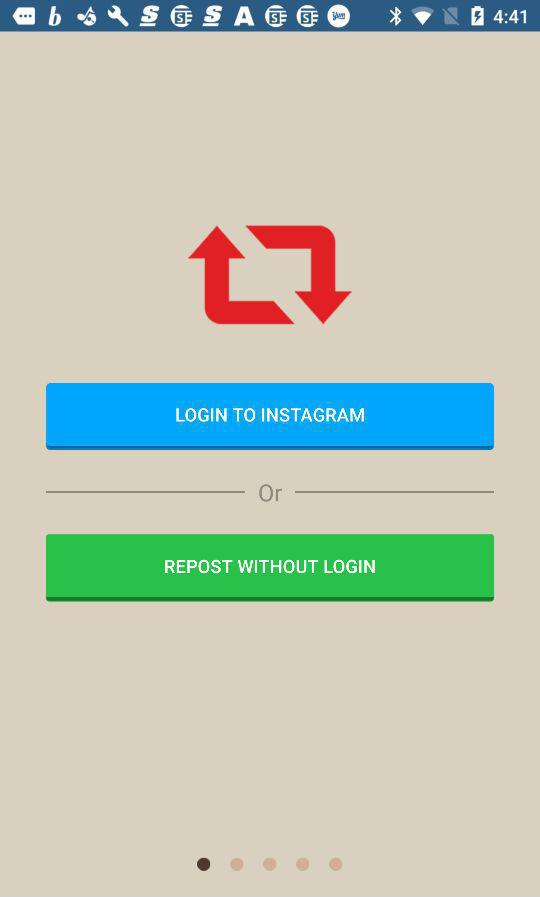Icon: (187, 224, 353, 326)
PageIndicator: (196, 857, 344, 872)
Text: (259, 485, 283, 503)
TextButton: (46, 383, 494, 451), (46, 534, 494, 602)
UpperTaskBar: (1, 1, 540, 33)
